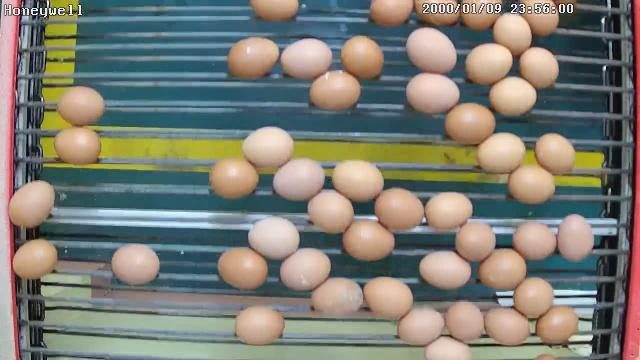egg: (225, 34, 279, 82), (330, 157, 385, 204), (270, 156, 326, 202), (278, 246, 333, 292), (341, 216, 396, 262), (308, 274, 364, 319), (404, 71, 460, 116), (404, 26, 456, 74), (476, 245, 528, 293), (246, 216, 300, 262), (215, 246, 269, 292), (240, 124, 294, 170), (443, 100, 497, 146), (372, 185, 423, 233), (307, 68, 362, 112), (7, 180, 56, 229), (362, 274, 414, 320), (207, 156, 260, 201), (279, 36, 333, 80), (417, 248, 472, 291), (110, 242, 161, 288), (474, 131, 526, 175), (486, 74, 538, 118), (233, 304, 287, 346), (306, 188, 355, 234), (56, 84, 107, 128), (422, 188, 473, 232), (10, 236, 58, 282), (506, 162, 556, 206), (52, 124, 104, 166), (394, 304, 446, 346), (464, 42, 514, 85), (534, 301, 580, 347), (510, 219, 557, 264), (510, 274, 554, 322), (555, 212, 596, 263), (340, 36, 386, 80), (484, 306, 532, 348), (517, 44, 561, 89), (533, 132, 577, 176), (453, 219, 496, 264), (443, 297, 485, 343), (493, 11, 533, 57)
